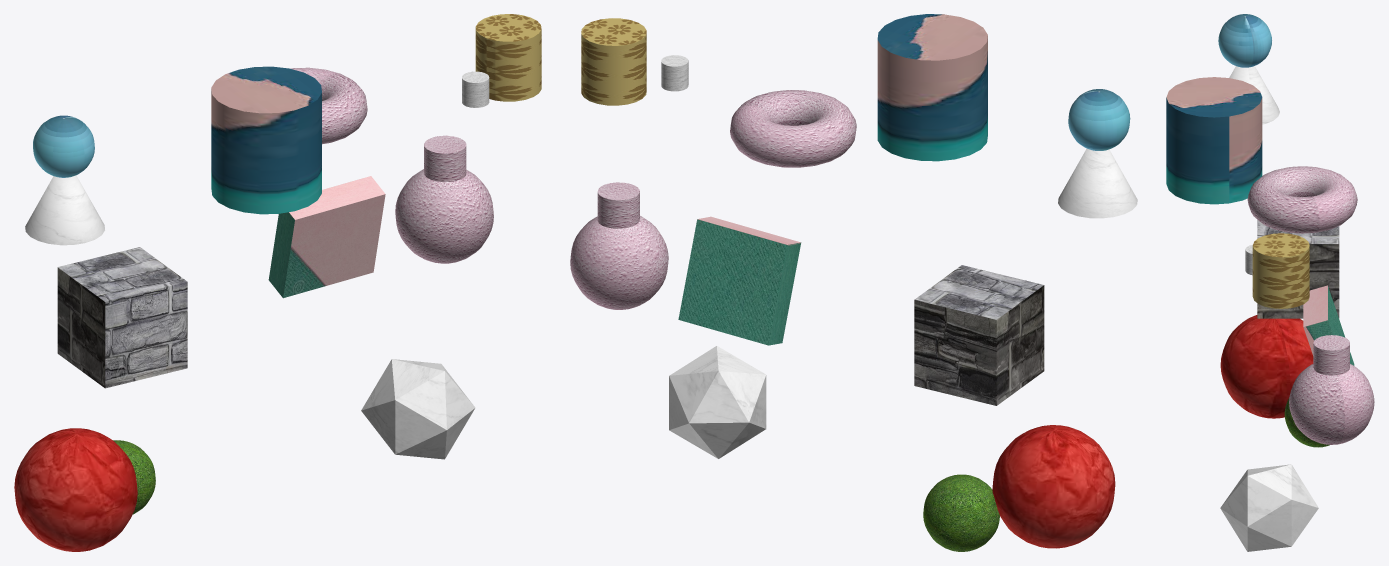
File: Objetos.obj
The picture shows the model from 3 angles, left to right: view 1: azimuth 30°, elevation 25°; view 2: azimuth 150°, elevation 25°; view 3: azimuth 270°, elevation 25°; orthographic projection. The views are drawn at different scales.
Visible parts, largest first — view 1: estante:pCylinder5 polySurface6, estante:pCylinder5 polySurface17, estante:pCylinder5 polySurface16, estante:pCylinder5 polySurface14, estante:pCylinder5 polySurface38, estante:pCylinder5 polySurface39, polySurface1 estante:pCylinder5, estante:pCylinder5 polySurface11, estante:pCylinder5 polySurface40, estante:pCylinder5 polySurface12, estante:pCylinder5 polySurface30, estante:pCylinder5 polySurface23 (+1 smaller); view 2: estante:pCylinder5 polySurface6, estante:pCylinder5 polySurface17, estante:pCylinder5 polySurface16, estante:pCylinder5 polySurface14, estante:pCylinder5 polySurface38, estante:pCylinder5 polySurface12, estante:pCylinder5 polySurface39, polySurface1 estante:pCylinder5, estante:pCylinder5 polySurface23, estante:pCylinder5 polySurface11, estante:pCylinder5 polySurface40, estante:pCylinder5 polySurface30 (+1 smaller); view 3: estante:pCylinder5 polySurface6, estante:pCylinder5 polySurface16, estante:pCylinder5 polySurface38, estante:pCylinder5 polySurface12, estante:pCylinder5 polySurface39, polySurface1 estante:pCylinder5, estante:pCylinder5 polySurface17, estante:pCylinder5 polySurface40, estante:pCylinder5 polySurface14, estante:pCylinder5 polySurface30, estante:pCylinder5 polySurface11, estante:pCylinder5 polySurface23.
Part boxes in pixels (left/top/right/bottom): estante:pCylinder5 polySurface6: left=211, top=66, right=321, bottom=214; estante:pCylinder5 polySurface17: left=57, top=247, right=187, bottom=388; estante:pCylinder5 polySurface16: left=14, top=428, right=137, bottom=551; estante:pCylinder5 polySurface14: left=268, top=176, right=385, bottom=298; estante:pCylinder5 polySurface38: left=361, top=359, right=475, bottom=459; estante:pCylinder5 polySurface39: left=395, top=169, right=493, bottom=263; polySurface1 estante:pCylinder5: left=475, top=14, right=541, bottom=101; estante:pCylinder5 polySurface11: left=25, top=175, right=104, bottom=245; estante:pCylinder5 polySurface40: left=33, top=115, right=94, bottom=177; estante:pCylinder5 polySurface12: left=291, top=67, right=367, bottom=144; estante:pCylinder5 polySurface30: left=424, top=135, right=466, bottom=182; estante:pCylinder5 polySurface23: left=113, top=440, right=155, bottom=514; estante:pCylinder5 polySurface6: left=877, top=14, right=987, bottom=161; estante:pCylinder5 polySurface17: left=914, top=265, right=1044, bottom=405; estante:pCylinder5 polySurface16: left=992, top=425, right=1115, bottom=548; estante:pCylinder5 polySurface14: left=678, top=216, right=801, bottom=345; estante:pCylinder5 polySurface38: left=669, top=346, right=766, bottom=458; estante:pCylinder5 polySurface12: left=730, top=90, right=856, bottom=167; estante:pCylinder5 polySurface39: left=570, top=216, right=668, bottom=309; polySurface1 estante:pCylinder5: left=581, top=18, right=646, bottom=105; estante:pCylinder5 polySurface23: left=923, top=474, right=999, bottom=551; estante:pCylinder5 polySurface11: left=1058, top=148, right=1137, bottom=218; estante:pCylinder5 polySurface40: left=1068, top=89, right=1130, bottom=150; estante:pCylinder5 polySurface30: left=597, top=182, right=639, bottom=228; estante:pCylinder5 polySurface6: left=1166, top=77, right=1262, bottom=204; estante:pCylinder5 polySurface16: left=1220, top=315, right=1313, bottom=418; estante:pCylinder5 polySurface38: left=1220, top=464, right=1318, bottom=551; estante:pCylinder5 polySurface12: left=1247, top=166, right=1357, bottom=233; estante:pCylinder5 polySurface39: left=1289, top=364, right=1374, bottom=444; polySurface1 estante:pCylinder5: left=1252, top=233, right=1309, bottom=308; estante:pCylinder5 polySurface17: left=1257, top=220, right=1339, bottom=318; estante:pCylinder5 polySurface40: left=1218, top=14, right=1271, bottom=67; estante:pCylinder5 polySurface14: left=1303, top=285, right=1354, bottom=365; estante:pCylinder5 polySurface30: left=1313, top=335, right=1349, bottom=375; estante:pCylinder5 polySurface11: left=1229, top=66, right=1279, bottom=124; estante:pCylinder5 polySurface23: left=1284, top=397, right=1329, bottom=447.
Bounding box in the file's own units: 1.3 × 1.06 × 0.5147.
